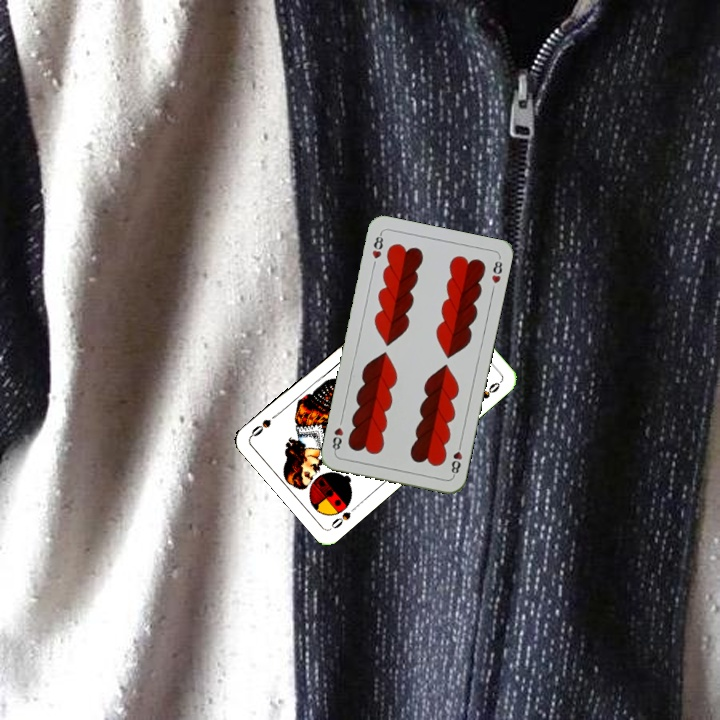H8: (447, 439, 465, 479), (368, 229, 386, 261)
SO: (327, 501, 360, 532)
